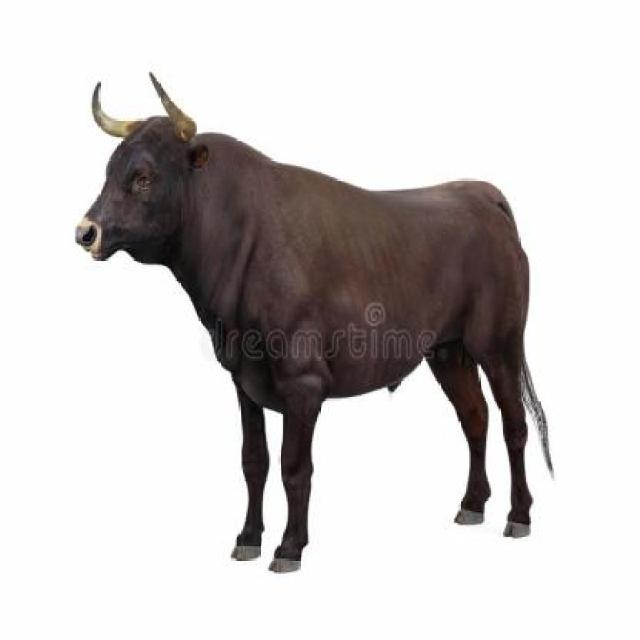Cow: (68, 70, 560, 572)
